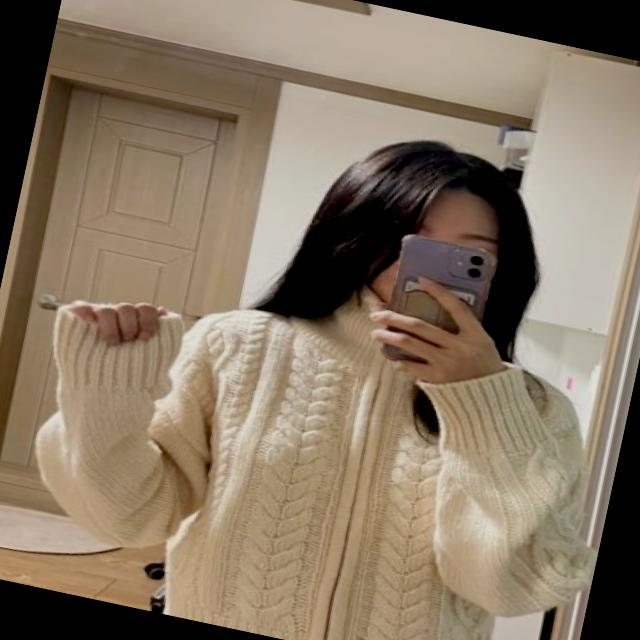cardigan: (1, 220, 640, 640)
